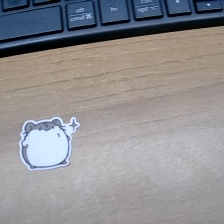mouse: (17, 116, 82, 172)
